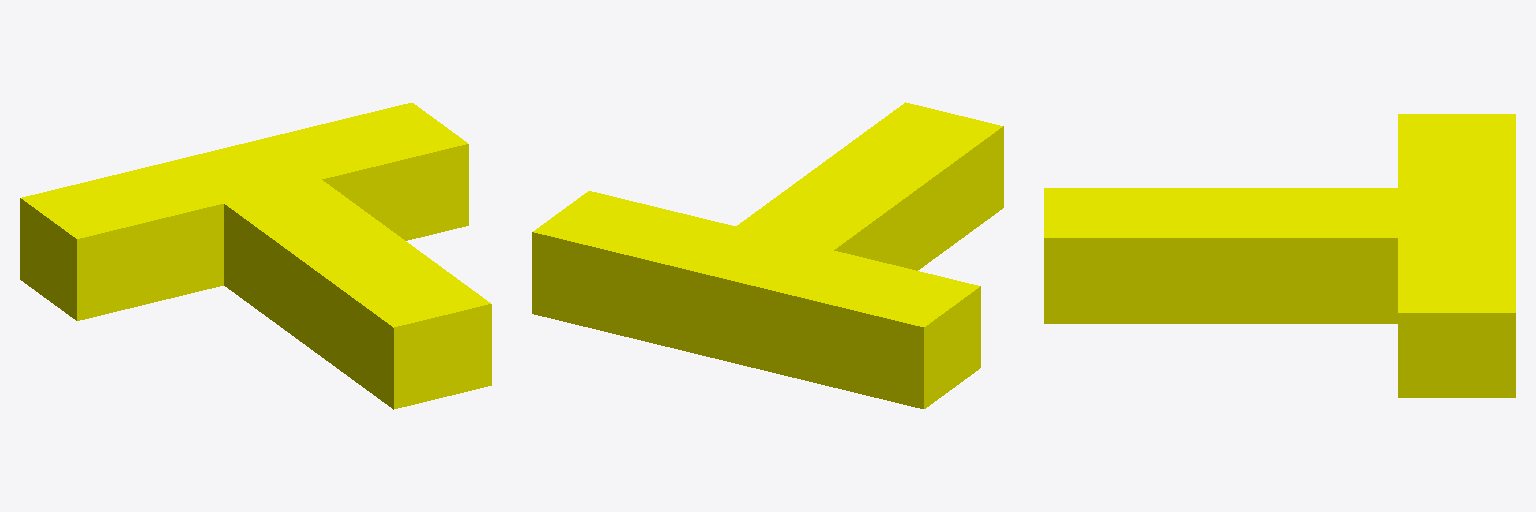
URDF robot description (T_20mm.urdf):
<?xml version="0.0" ?>
<robot name="T_20mm.urdf">
  <link concave="yes" name="baseLink" >
    <contact>
      <friction_anchor/>
      <lateral_friction value="0.3"/>
      <rolling_friction value="0.0"/>
      <contact_cfm value="0.0"/>
      <contact_erp value="1.0"/>
    </contact>
    <inertial>
       <origin rpy="0 0 0" xyz="0 0 0"/>
       <mass value="0.176"/>
       <inertia ixx="8e-05" ixy="0" ixz="0" iyy="0.0002" iyz="0" izz="0.0002"/>
    </inertial>
    <visual>
      <geometry>
        <mesh filename="T_20mm.obj" scale="1 1 2"/>
      </geometry>
      <material name="orange">
        <color rgba="255. 165. 0. 1."/>
      </material>
    </visual>
    <collision>
      <geometry>
    	 	<mesh filename="test.obj" scale="1 1 2"/>
      </geometry>
    </collision>
  </link>
</robot>

--- Facts derived from the render (not from the file) ---
Views: 3 orthographic renders of the robot side by side, from view 1: azimuth 30°, elevation 25°; view 2: azimuth 150°, elevation 25°; view 3: azimuth 270°, elevation 25°.
Model T_20mm.urdf with 1 links and 0 joints (none), rooted at baseLink, posed all joints at 0.
Visible links, largest first — view 1: baseLink; view 2: baseLink; view 3: baseLink.
Link boxes in pixels (x1,y1,x2,y2): baseLink: [20, 103, 491, 409]; baseLink: [532, 102, 1003, 408]; baseLink: [1044, 114, 1515, 397].
Size in the robot's own frame: 0.2 by 0.2 by 0.04 metres.
1 mesh visuals loaded from 1 distinct referenced files (1 OBJ).